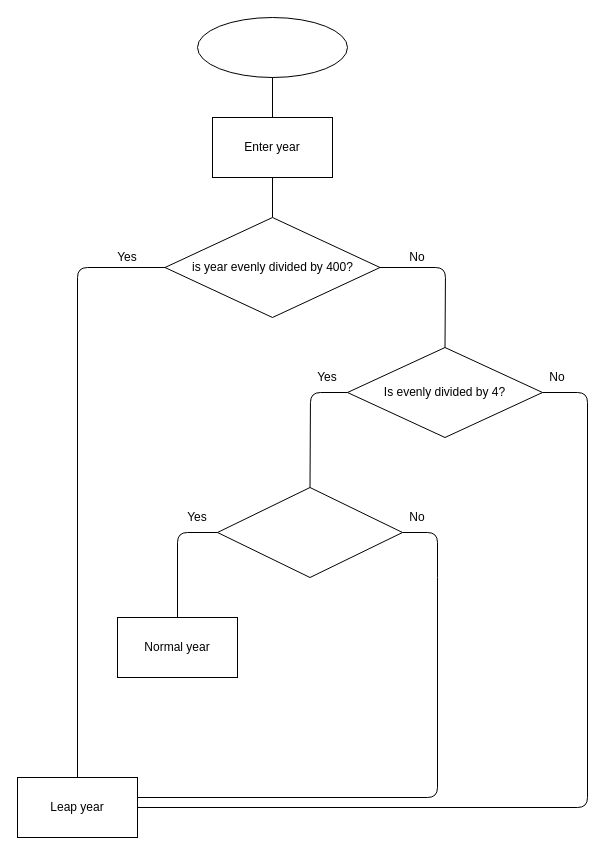
This 606x855 diagram has some shape labels left out. Here are the shapes that lost their labels. From the top down, the centre of each, then its label:
At pixel 272 47: "Start".
At pixel 309 532: "Is evenly divided by 100?".
